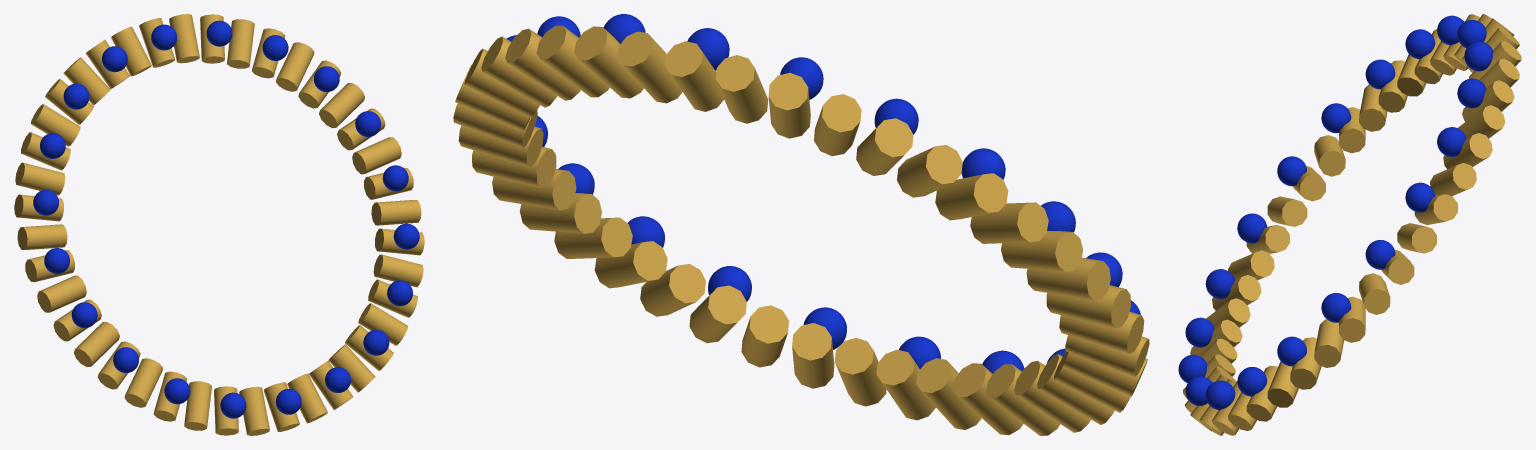
File: bracelet.glb
3 views of the same model, side by side, from view 1: azimuth 30°, elevation 25°; view 2: azimuth 150°, elevation 25°; view 3: azimuth 270°, elevation 25° (orthographic). The views are drawn at different scales.
Parts seen in each view (by area): view 1: metal (×40), gem (×20); view 2: metal (×40), gem (×10); view 3: metal (×36), gem (×20).
Boxes of the visible parts, box(x1,y1,x2,y2) form: metal (×40): box(14, 14, 424, 435); gem (×20): box(33, 20, 419, 418); metal (×40): box(453, 25, 1149, 435); gem (×10): box(603, 14, 1075, 369); metal (×36): box(1183, 14, 1521, 435); gem (×20): box(1178, 15, 1493, 410).
Size of the model in its own units: 4.34 by 3.49 by 2.98.
